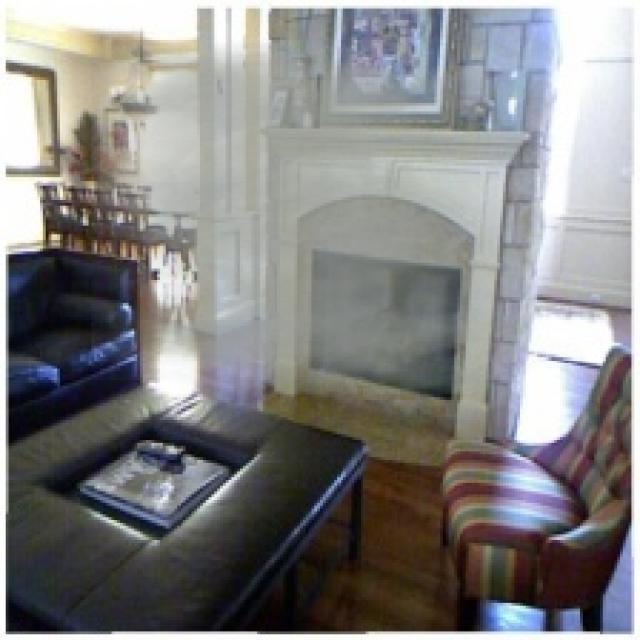Smoke: (91, 39, 500, 394)
